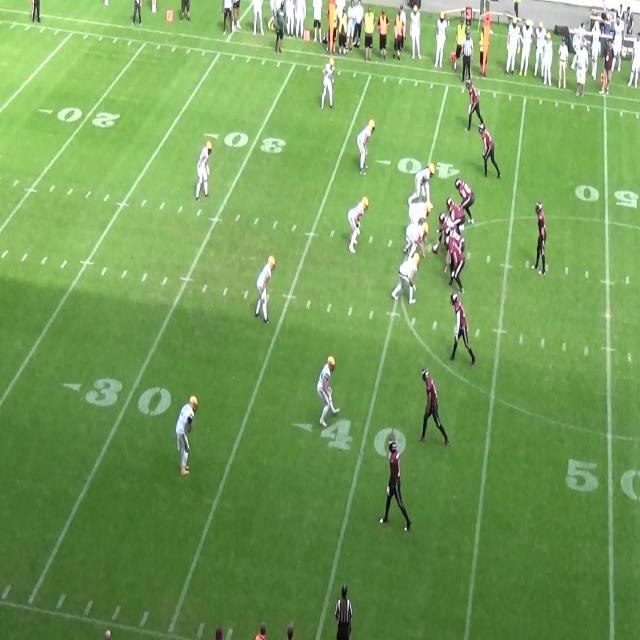3: (85, 375, 125, 409)
4: (318, 411, 356, 459)
5: (562, 451, 602, 498)
american-football-players: (379, 435, 409, 536), (418, 368, 449, 449), (450, 292, 477, 368), (249, 254, 274, 328), (176, 395, 196, 480), (315, 356, 338, 426), (392, 248, 418, 308), (477, 118, 500, 185), (442, 235, 467, 294), (531, 205, 550, 277), (347, 197, 369, 256), (466, 75, 488, 131), (195, 141, 212, 203), (356, 120, 374, 174), (455, 179, 475, 224), (436, 211, 460, 247), (410, 222, 430, 262), (323, 56, 337, 113), (411, 162, 433, 198), (446, 200, 468, 236), (410, 195, 432, 227), (442, 227, 466, 255)
